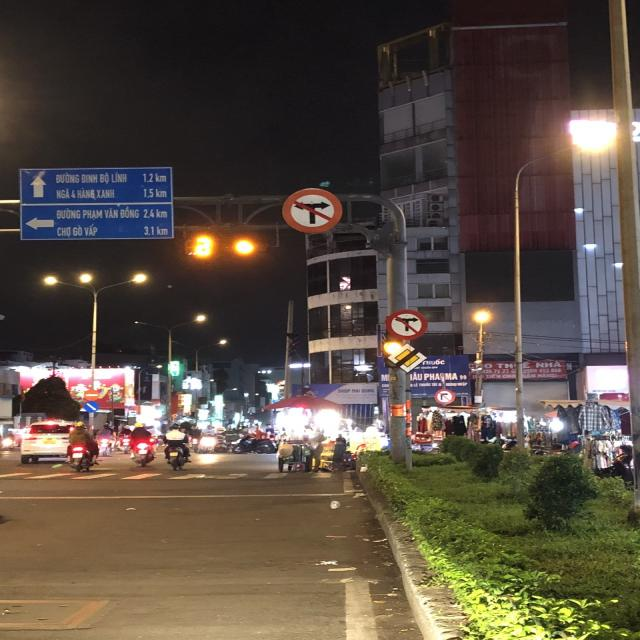Bien bao cam re phai: (432, 387, 457, 406)
